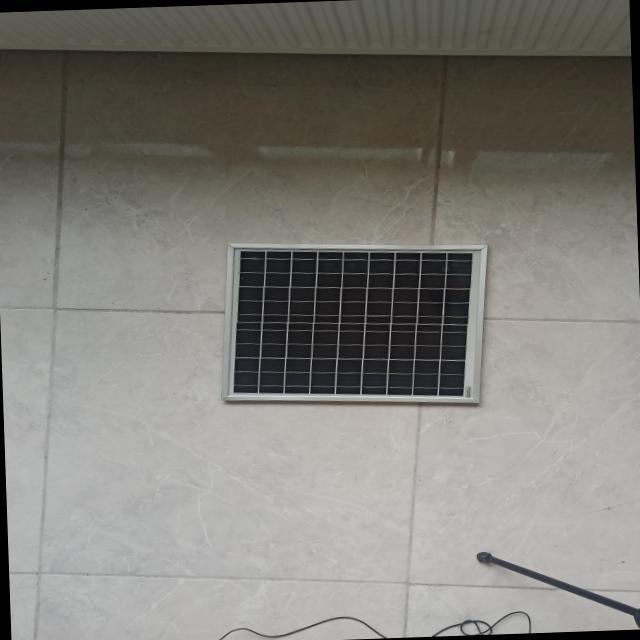no faulty: (224, 245, 488, 405)
